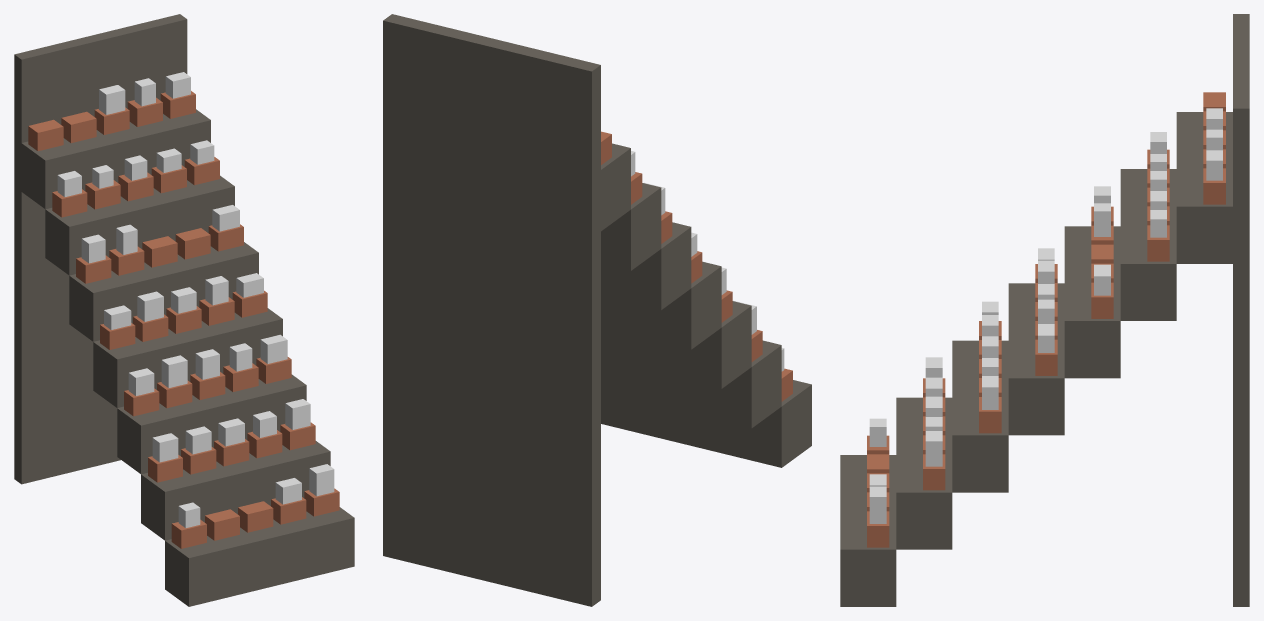
Rendered from soc_stand.fbx.
3 renders of one model, left to right at view 1: azimuth 30°, elevation 25°; view 2: azimuth 150°, elevation 25°; view 3: azimuth 270°, elevation 25°, orthographic. The views are drawn at different scales.
Visible parts, largest first — view 1: sub_1, seat_1, crowd_1; view 2: sub_1, seat_1, crowd_1; view 3: sub_1, crowd_1, seat_1.
Boxes of the visible parts, x1=… form: sub_1: x1=14, y1=14, x2=354, y2=606; seat_1: x1=28, y1=91, x2=339, y2=548; crowd_1: x1=57, y1=72, x2=334, y2=528; sub_1: x1=383, y1=14, x2=811, y2=606; seat_1: x1=601, y1=131, x2=792, y2=401; crowd_1: x1=631, y1=151, x2=784, y2=371; sub_1: x1=840, y1=14, x2=1249, y2=606; crowd_1: x1=869, y1=108, x2=1222, y2=523; seat_1: x1=867, y1=92, x2=1225, y2=547.
Size of the model in its own units: 0.8 by 1.96 by 1.46.
